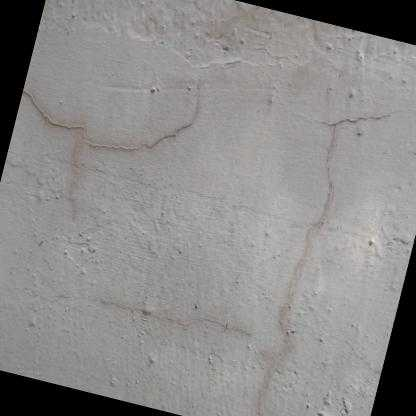crack: (255, 109, 388, 416), (22, 87, 202, 156)
